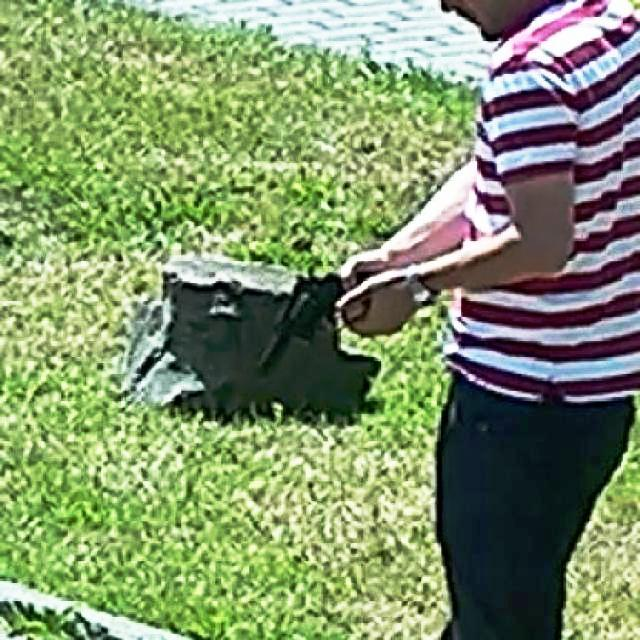Gun: (250, 269, 358, 382)
